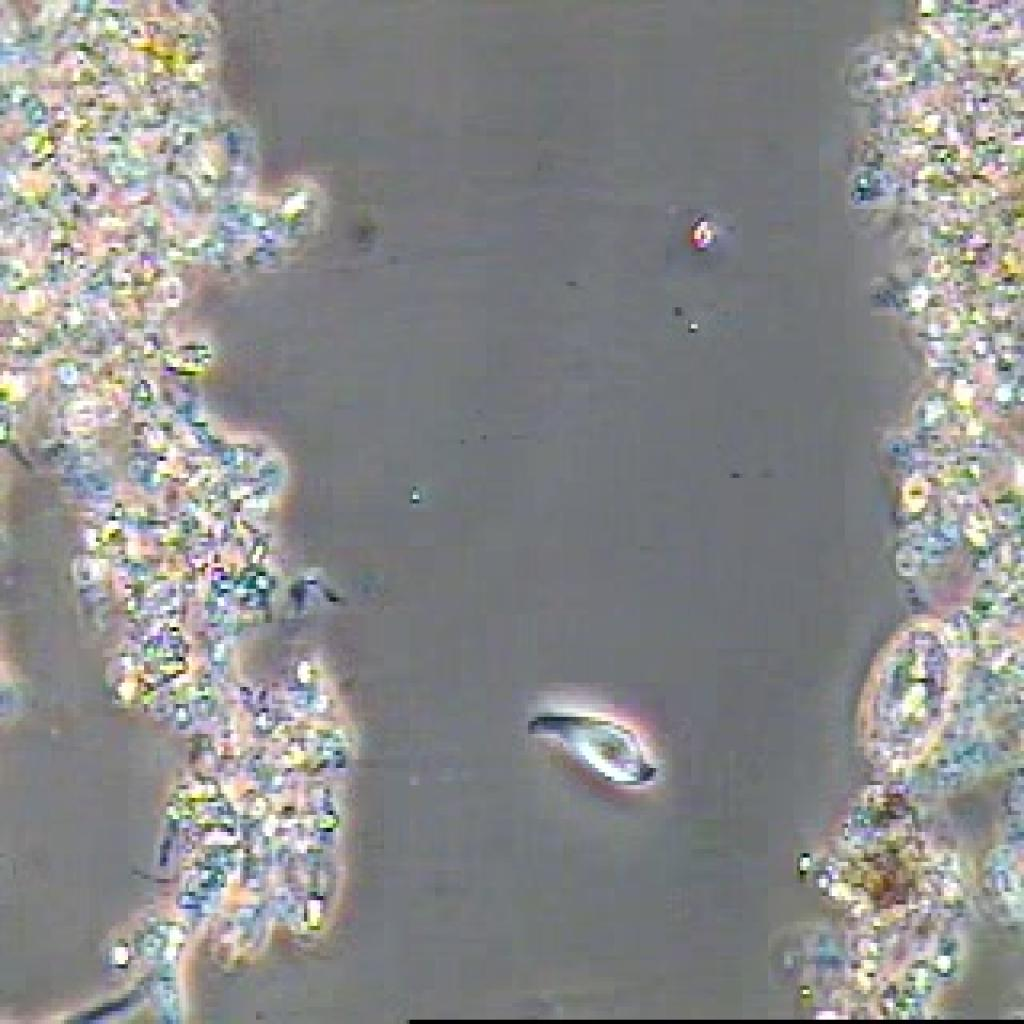Pristina: (512, 689, 666, 813)
